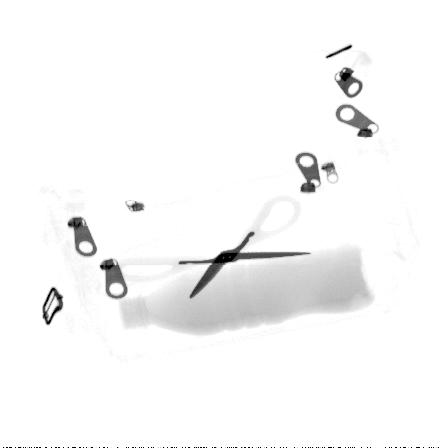Scissors: (109, 198, 315, 300)
